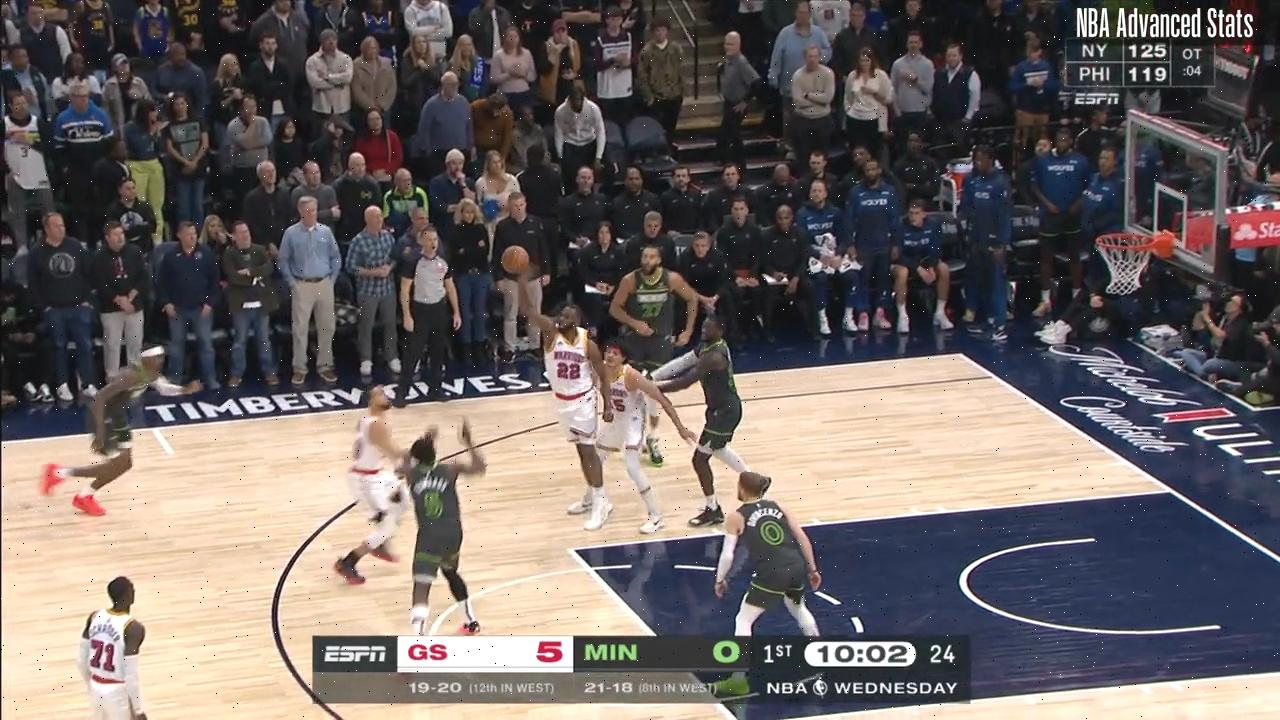basketball: (501, 240, 533, 279)
